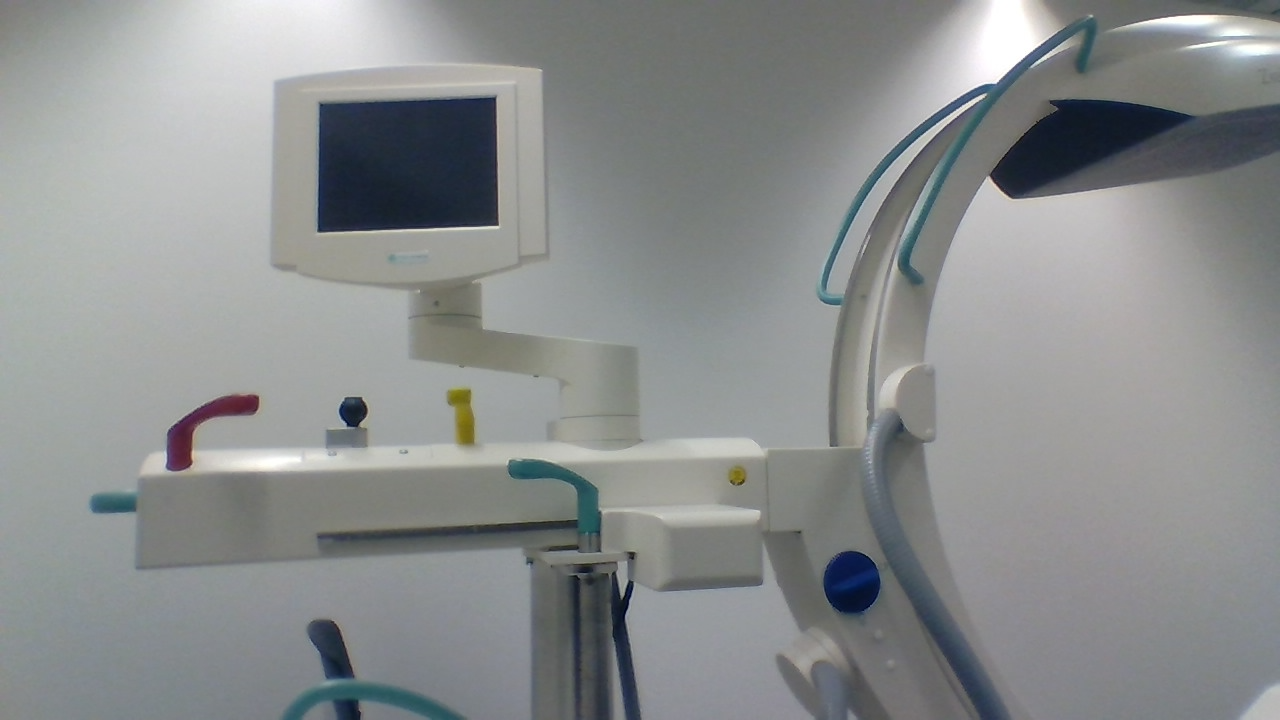carmLOCK: (821, 547, 884, 614)
carmSCREEN: (267, 62, 554, 287)
carmUP: (987, 15, 1280, 201)
